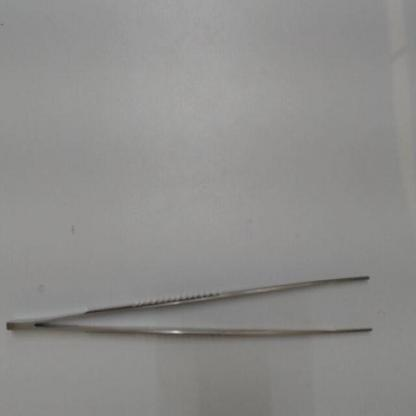DeBakey Dissector: (4, 259, 386, 355)
